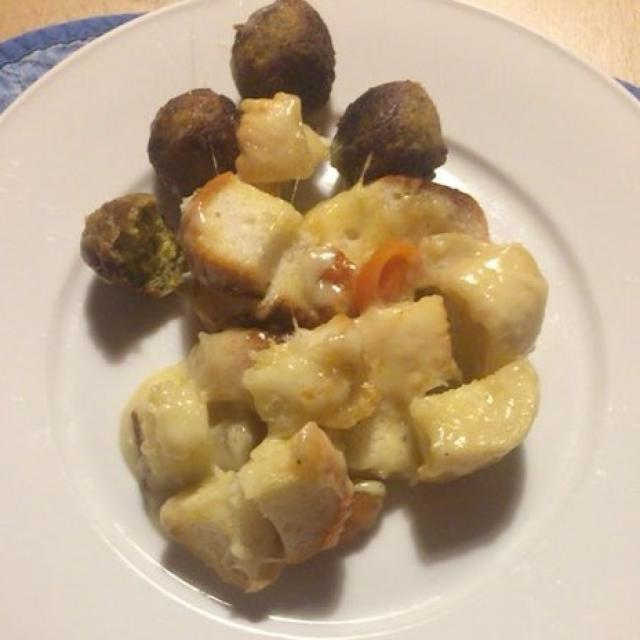bread: (161, 109, 557, 578)
falafel-balls: (93, 15, 453, 293)
tomato: (329, 245, 433, 306)
